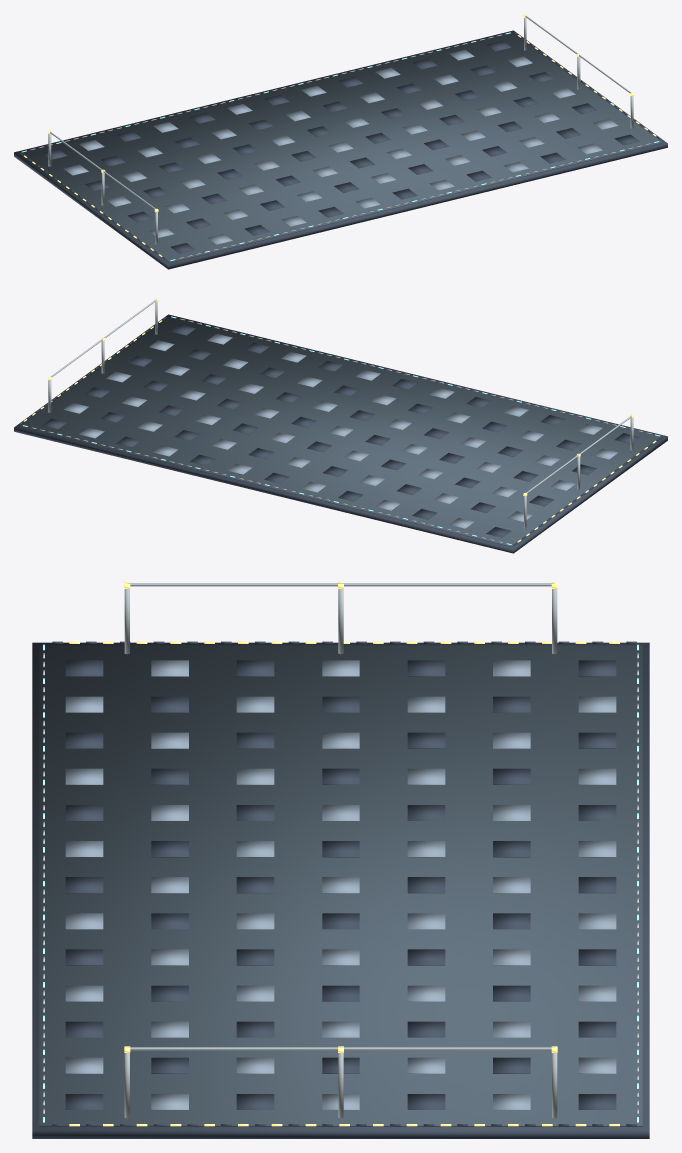
Rendered from 00_L84_CelestialDynamicsArenaBase.glb.
3 views of the same model, one above another, from view 1: azimuth 30°, elevation 25°; view 2: azimuth 150°, elevation 25°; view 3: azimuth 270°, elevation 25° (orthographic). The views are drawn at different scales.
Parts seen in each view (by area): view 1: L84_CelestialDynamicsArenaBas_Part_0006, L84_CelestialDynamicsArenaBas_Part_0000, L84_CelestialDynamicsArenaBas_Part_0009, L84_CelestialDynamicsArenaBas_Part_0002, L84_CelestialDynamicsArenaBas_Part_0007, L84_CelestialDynamicsArenaBas_Part_0008, L84_CelestialDynamicsArenaBas_Part_0001, L84_CelestialDynamicsArenaBas_Part_0023, L84_CelestialDynamicsArenaBas_Part_0003, L84_CelestialDynamicsArenaBas_Part_0010; view 2: L84_CelestialDynamicsArenaBas_Part_0006, L84_CelestialDynamicsArenaBas_Part_0000, L84_CelestialDynamicsArenaBas_Part_0009, L84_CelestialDynamicsArenaBas_Part_0002, L84_CelestialDynamicsArenaBas_Part_0001, L84_CelestialDynamicsArenaBas_Part_0007, L84_CelestialDynamicsArenaBas_Part_0008, L84_CelestialDynamicsArenaBas_Part_0023, L84_CelestialDynamicsArenaBas_Part_0003, L84_CelestialDynamicsArenaBas_Part_0010; view 3: L84_CelestialDynamicsArenaBas_Part_0006, L84_CelestialDynamicsArenaBas_Part_0000, L84_CelestialDynamicsArenaBas_Part_0007, L84_CelestialDynamicsArenaBas_Part_0009, L84_CelestialDynamicsArenaBas_Part_0002, L84_CelestialDynamicsArenaBas_Part_0008, L84_CelestialDynamicsArenaBas_Part_0001, L84_CelestialDynamicsArenaBas_Part_0023, L84_CelestialDynamicsArenaBas_Part_0003, L84_CelestialDynamicsArenaBas_Part_0010.
Boxes of the visible parts, box(x1,y1,x2,y2) form: L84_CelestialDynamicsArenaBas_Part_0006: box(19, 32, 662, 262); L84_CelestialDynamicsArenaBas_Part_0000: box(14, 30, 667, 269); L84_CelestialDynamicsArenaBas_Part_0009: box(359, 49, 602, 172); L84_CelestialDynamicsArenaBas_Part_0002: box(338, 58, 565, 181); L84_CelestialDynamicsArenaBas_Part_0007: box(63, 122, 306, 244); L84_CelestialDynamicsArenaBas_Part_0008: box(211, 86, 454, 208); L84_CelestialDynamicsArenaBas_Part_0001: box(190, 95, 417, 217); L84_CelestialDynamicsArenaBas_Part_0023: box(48, 15, 633, 244); L84_CelestialDynamicsArenaBas_Part_0003: box(19, 40, 639, 204); L84_CelestialDynamicsArenaBas_Part_0010: box(508, 56, 618, 129); L84_CelestialDynamicsArenaBas_Part_0006: box(19, 316, 662, 546); L84_CelestialDynamicsArenaBas_Part_0000: box(14, 314, 667, 553); L84_CelestialDynamicsArenaBas_Part_0009: box(79, 333, 322, 456); L84_CelestialDynamicsArenaBas_Part_0002: box(100, 342, 359, 465); L84_CelestialDynamicsArenaBas_Part_0001: box(248, 379, 507, 501); L84_CelestialDynamicsArenaBas_Part_0007: box(375, 406, 618, 528); L84_CelestialDynamicsArenaBas_Part_0008: box(227, 370, 470, 492); L84_CelestialDynamicsArenaBas_Part_0023: box(48, 299, 633, 528); L84_CelestialDynamicsArenaBas_Part_0003: box(42, 324, 584, 545); L84_CelestialDynamicsArenaBas_Part_0010: box(63, 340, 173, 413); L84_CelestialDynamicsArenaBas_Part_0006: box(39, 645, 642, 1126); L84_CelestialDynamicsArenaBas_Part_0000: box(32, 642, 649, 1138); L84_CelestialDynamicsArenaBas_Part_0007: box(65, 660, 616, 784); L84_CelestialDynamicsArenaBas_Part_0009: box(65, 949, 616, 1073); L84_CelestialDynamicsArenaBas_Part_0002: box(65, 913, 616, 1073); L84_CelestialDynamicsArenaBas_Part_0008: box(65, 805, 616, 929); L84_CelestialDynamicsArenaBas_Part_0001: box(65, 768, 616, 929); L84_CelestialDynamicsArenaBas_Part_0023: box(124, 583, 557, 1118); L84_CelestialDynamicsArenaBas_Part_0003: box(65, 641, 636, 1109); L84_CelestialDynamicsArenaBas_Part_0010: box(151, 1094, 530, 1109).
Size of the model in its own units: 27 by 2.06 by 14.45.
